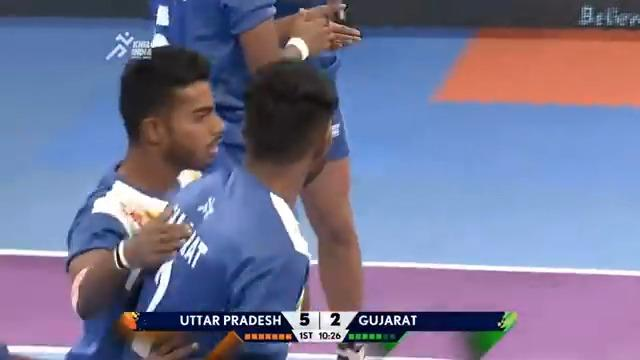Player: (141, 0, 365, 358), (64, 43, 227, 358)
referee: (270, 0, 366, 359)
